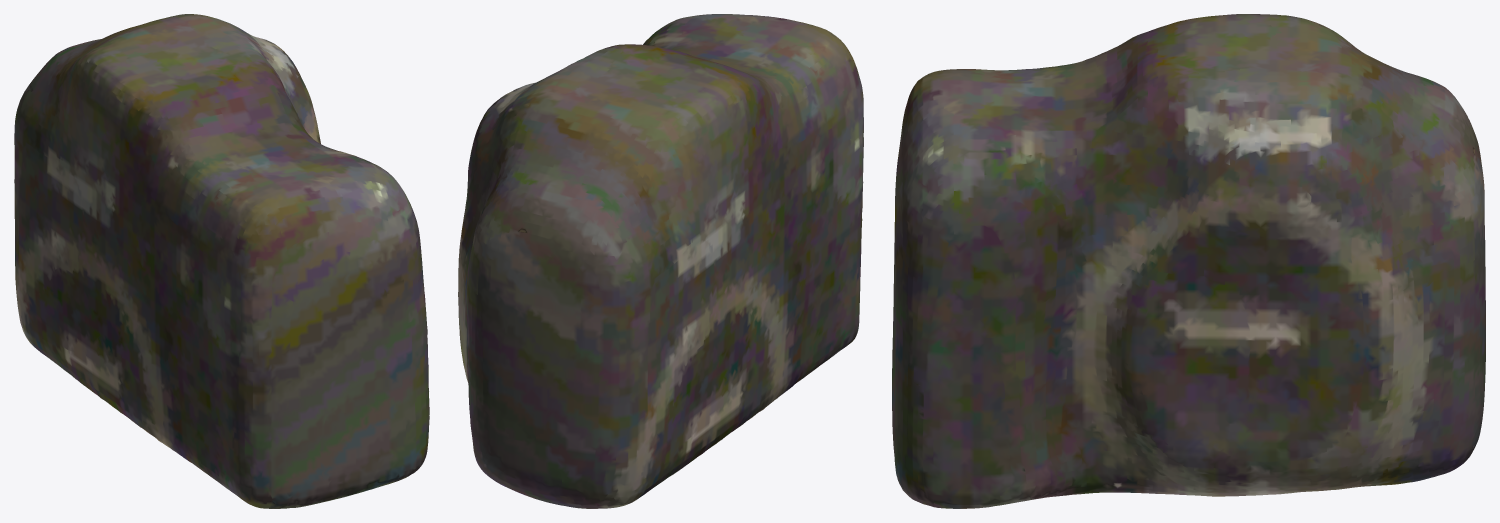
File: mesh_net03_pcd.glb
3 renders of one model, left to right at view 1: azimuth 30°, elevation 25°; view 2: azimuth 150°, elevation 25°; view 3: azimuth 270°, elevation 25°, orthographic. The views are drawn at different scales.
Size of the model in its own units: 0.3548 by 0.5549 by 0.7299.
